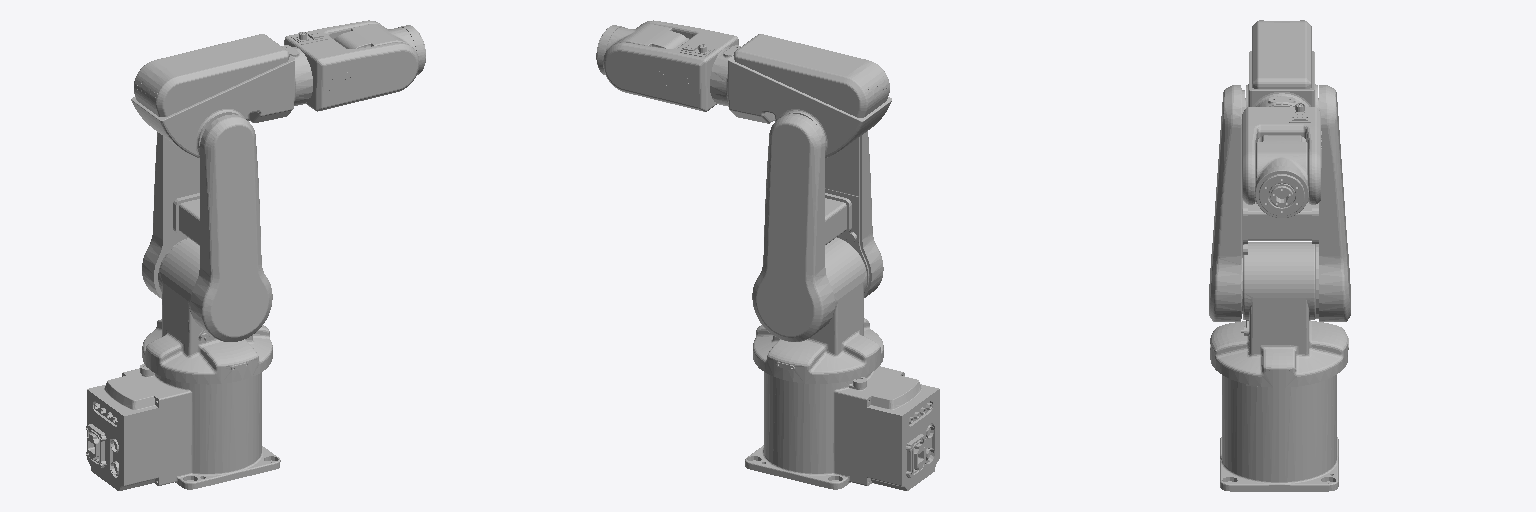
The robot description file, URDF, robot "ABB_ROBOT_V3":
<?xml version="1.0" encoding="utf-8"?>
<!-- This URDF was automatically created by SolidWorks to URDF Exporter! Originally created by Stephen Brawner (brawner@gmail.com) 
     Commit Version: 1.5.1-0-g916b5db  Build Version: 1.5.7152.31018
     For more information, please see http://wiki.ros.org/sw_urdf_exporter -->
<robot
  name="ABB_ROBOT_V3">
  <link
    name="base_link">
    <inertial>
      <origin
        xyz="-0.0417826456846352 4.96966924417308E-05 0.0849283921767648"
        rpy="0 0 0" />
      <mass
        value="6.29425738642853" />
      <inertia
        ixx="0.0263765560184219"
        ixy="0.000105939052480444"
        ixz="-0.00132287707889585"
        iyy="0.0501586165015237"
        iyz="1.56634637236806E-05"
        izz="0.0458366216023236" />
    </inertial>
    <visual>
      <origin
        xyz="0 0 0"
        rpy="0 0 0" />
      <geometry>
        <mesh
          filename="package://meshes/base_link.STL" />
      </geometry>
      <material
        name="">
        <color
          rgba="0.752941176470588 0.752941176470588 0.752941176470588 1" />
      </material>
    </visual>
    <collision>
      <origin
        xyz="0 0 0"
        rpy="0 0 0" />
      <geometry>
        <mesh
          filename="package://meshes/base_link.STL" />
      </geometry>
    </collision>
  </link>
  <link
    name="Link_1">
    <inertial>
      <origin
        xyz="-8.66262561045605E-05 0.0679882884841022 1.28883490855547E-05"
        rpy="0 0 0" />
      <mass
        value="2.90340805274658" />
      <inertia
        ixx="0.0138650248716696"
        ixy="-1.68074408610487E-06"
        ixz="1.60234055051029E-06"
        iyy="0.0094363884833918"
        iyz="2.60744289072369E-06"
        izz="0.0135408816503478" />
    </inertial>
    <visual>
      <origin
        xyz="0 0 0"
        rpy="0 0 0" />
      <geometry>
        <mesh
          filename="package://meshes/Link_1.STL" />
      </geometry>
      <material
        name="">
        <color
          rgba="0.752941176470588 0.752941176470588 0.752941176470588 1" />
      </material>
    </visual>
    <collision>
      <origin
        xyz="0 0 0"
        rpy="0 0 0" />
      <geometry>
        <mesh
          filename="package://meshes/Link_1.STL" />
      </geometry>
    </collision>
  </link>
  <joint
    name="Revolute_joint_1"
    type="revolute">
    <origin
      xyz="-5.961E-05 -8.6705E-05 0.18"
      rpy="1.5708 0 1.5708" />
    <parent
      link="base_link" />
    <child
      link="Link_1" />
    <axis
      xyz="0 1 0" />
    <limit
      lower="-1.57"
      upper="1.57"
      effort="1000"
      velocity="5" />
  </joint>
  <link
    name="Link_2">
    <inertial>
      <origin
        xyz="0.00080227024653784 0.0984321543728639 -5.4714177336046E-07"
        rpy="0 0 0" />
      <mass
        value="3.44714497157819" />
      <inertia
        ixx="0.038074638817227"
        ixy="0.000461291926150277"
        ixz="5.71887094470376E-08"
        iyy="0.0218704568262246"
        iyz="1.13331539600094E-07"
        izz="0.0545141404915225" />
    </inertial>
    <visual>
      <origin
        xyz="0 0 0"
        rpy="0 0 0" />
      <geometry>
        <mesh
          filename="package://meshes/Link_2.STL" />
      </geometry>
      <material
        name="">
        <color
          rgba="0.752941176470588 0.752941176470588 0.752941176470588 1" />
      </material>
    </visual>
    <collision>
      <origin
        xyz="0 0 0"
        rpy="0 0 0" />
      <geometry>
        <mesh
          filename="package://meshes/Link_2.STL" />
      </geometry>
    </collision>
  </link>
  <joint
    name="Revolute_joint_2"
    type="revolute">
    <origin
      xyz="0 0.131 0"
      rpy="0 0 0" />
    <parent
      link="Link_1" />
    <child
      link="Link_2" />
    <axis
      xyz="1 0 0" />
    <limit
      lower="-1.57"
      upper="1.57"
      effort="1000"
      velocity="4" />
  </joint>
  <link
    name="Link_3">
    <inertial>
      <origin
        xyz="0.00401886033661392 0.05283524290867 0.113183189826528"
        rpy="0 0 0" />
      <mass
        value="5.31327431591071" />
      <inertia
        ixx="0.0279948723401314"
        ixy="-4.82776016283409E-06"
        ixz="3.00599251223798E-06"
        iyy="0.0263390567887753"
        iyz="-0.00107706776527766"
        izz="0.0112625072473608" />
    </inertial>
    <visual>
      <origin
        xyz="0 0 0"
        rpy="0 0 0" />
      <geometry>
        <mesh
          filename="package://meshes/Link_3.STL" />
      </geometry>
      <material
        name="">
        <color
          rgba="0.752941176470588 0.752941176470588 0.752941176470588 1" />
      </material>
    </visual>
    <collision>
      <origin
        xyz="0 0 0"
        rpy="0 0 0" />
      <geometry>
        <mesh
          filename="package://meshes/Link_3.STL" />
      </geometry>
    </collision>
  </link>
  <joint
    name="Revolute_joint_3"
    type="revolute">
    <origin
      xyz="0 0.27918 0"
      rpy="0.033012 0 0" />
    <parent
      link="Link_2" />
    <child
      link="Link_3" />
    <axis
      xyz="1 0 0" />
    <limit
      lower="-1.57"
      upper="1.222"
      effort="1000"
      velocity="5" />
  </joint>
</robot>

--- Facts derived from the render (not from the file) ---
The picture shows the robot from 3 angles, left to right: view 1: azimuth 30°, elevation 25°; view 2: azimuth 150°, elevation 25°; view 3: azimuth 270°, elevation 25°; orthographic projection.
Robot: ABB_ROBOT_V3 — 4 links, 3 joints (3 revolute); root link base_link; default pose: all joints at 0.
Links seen in each view (by area): view 1: Link_3, Link_2, base_link, Link_1; view 2: Link_3, Link_2, base_link, Link_1; view 3: Link_2, Link_1, Link_3, base_link.
Link boxes in pixels (<box>): Link_3: <box>131,20,425,157</box>; Link_2: <box>142,114,272,341</box>; base_link: <box>86,364,280,490</box>; Link_1: <box>142,238,272,384</box>; Link_3: <box>596,20,891,157</box>; Link_2: <box>752,113,883,341</box>; base_link: <box>745,366,939,490</box>; Link_1: <box>753,237,883,383</box>; Link_2: <box>1209,85,1350,321</box>; Link_1: <box>1210,242,1348,387</box>; Link_3: <box>1242,20,1321,217</box>; base_link: <box>1220,375,1338,491</box>.
Bounding box of the posed robot: 0.5972 × 0.2172 × 0.7096 m (x, y, z).
Meshes: 4 distinct files referenced, 4 mesh visuals loaded (4 binary STL).
